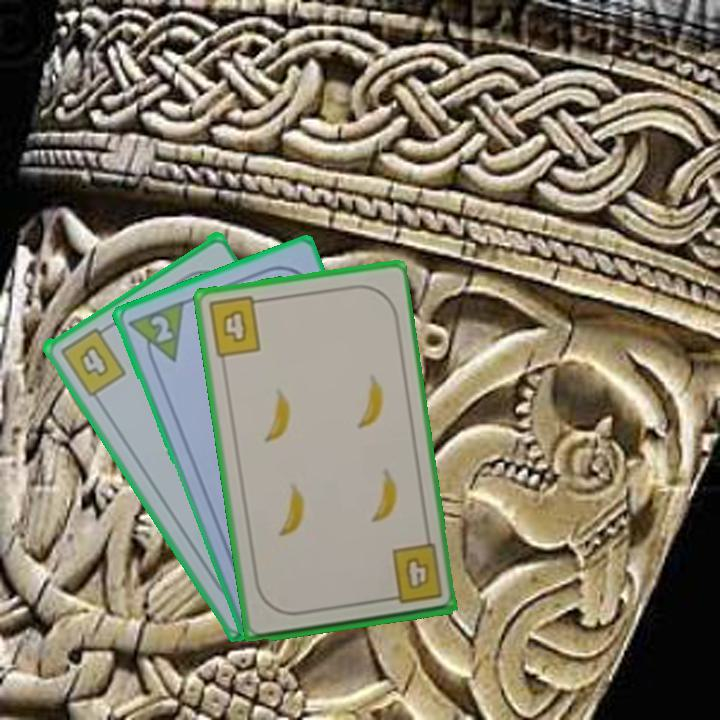2p: (124, 296, 187, 371)
4b: (56, 320, 128, 399), (380, 541, 446, 607), (204, 293, 268, 360)
